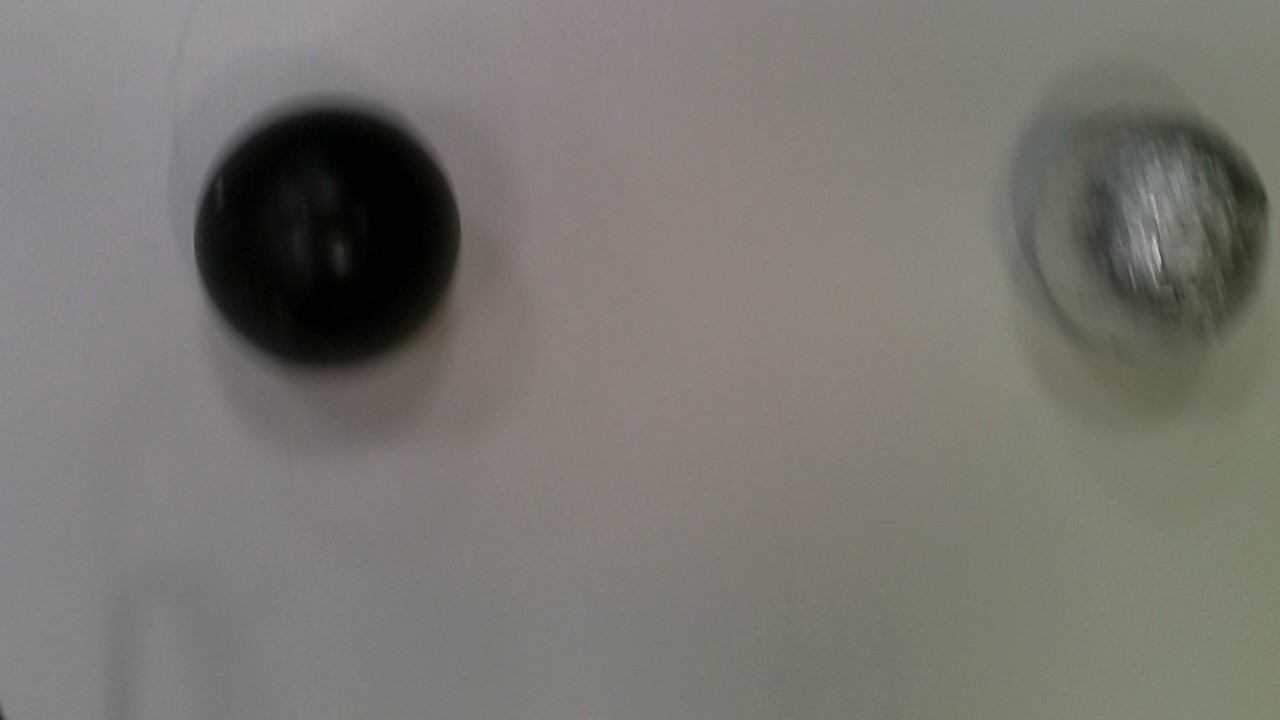black_ball: (185, 95, 476, 374)
silver_ball: (1014, 105, 1274, 361)
